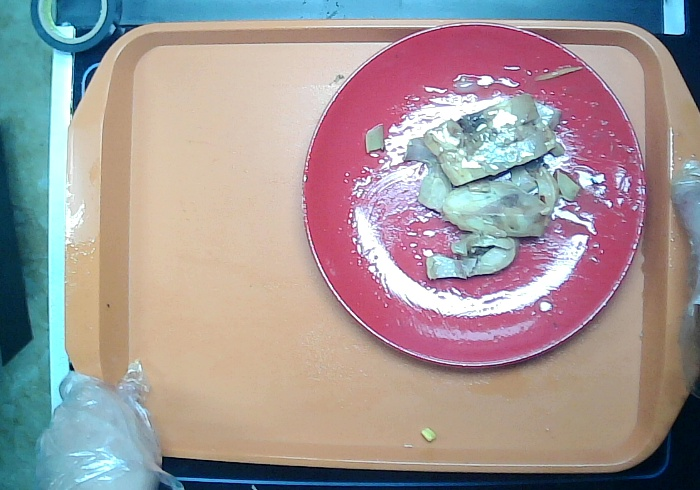HZYJPL-Hong_Se_Yuan_Pan: (299, 21, 648, 372)
